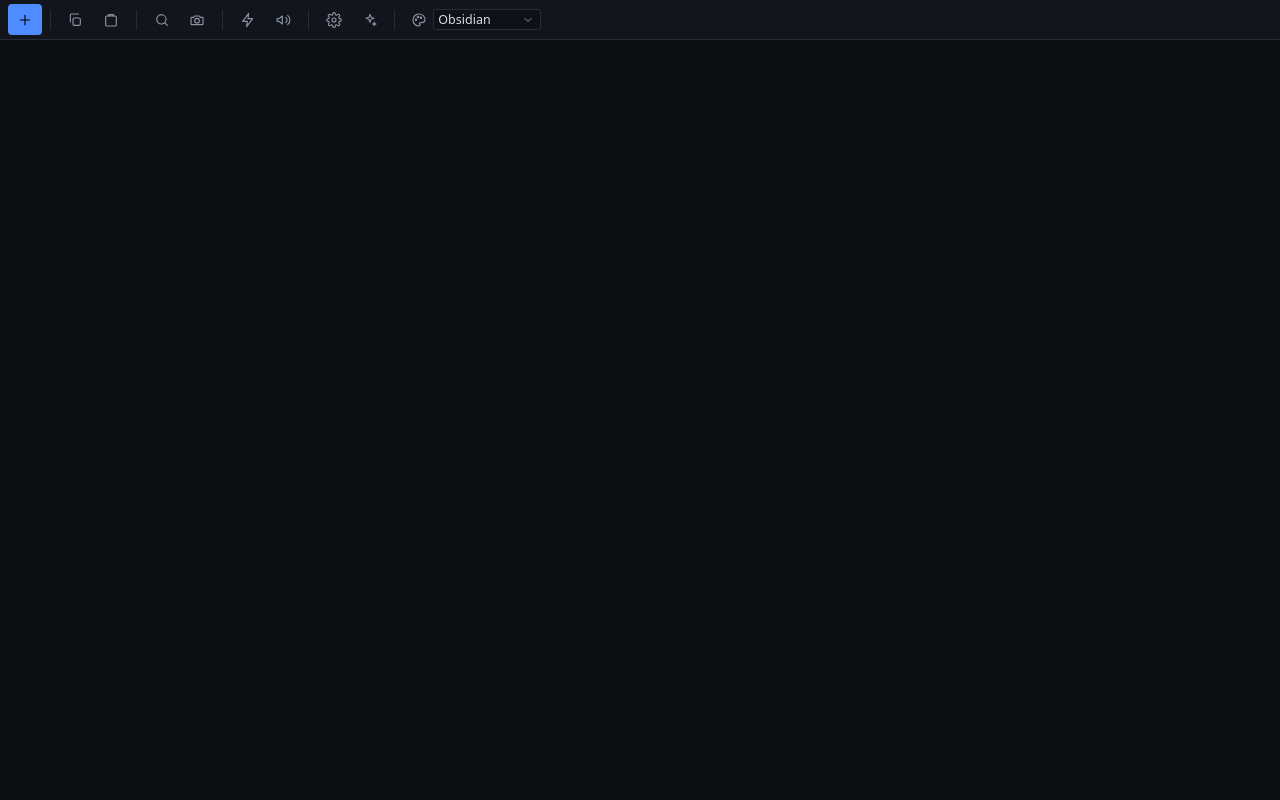
Test: 右键菜单：勾选显示哪些按钮（出口第 17 项） › 点别处关菜单
Right-click the element with test id "toolbar" at (640, 20), box x1=0 y1=0 x2=1279 y2=40
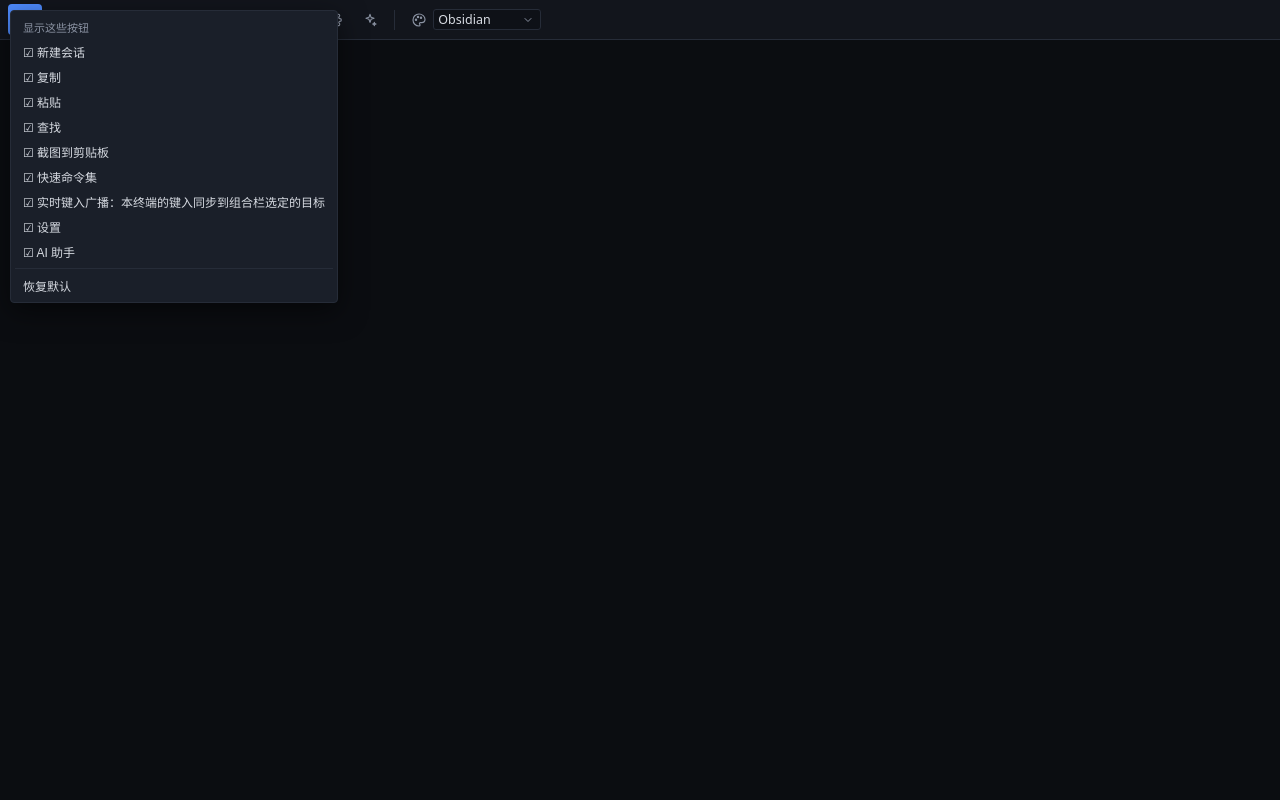
Click the element with class "tb-scrim" at (640, 400), box x1=0 y1=0 x2=1279 y2=799
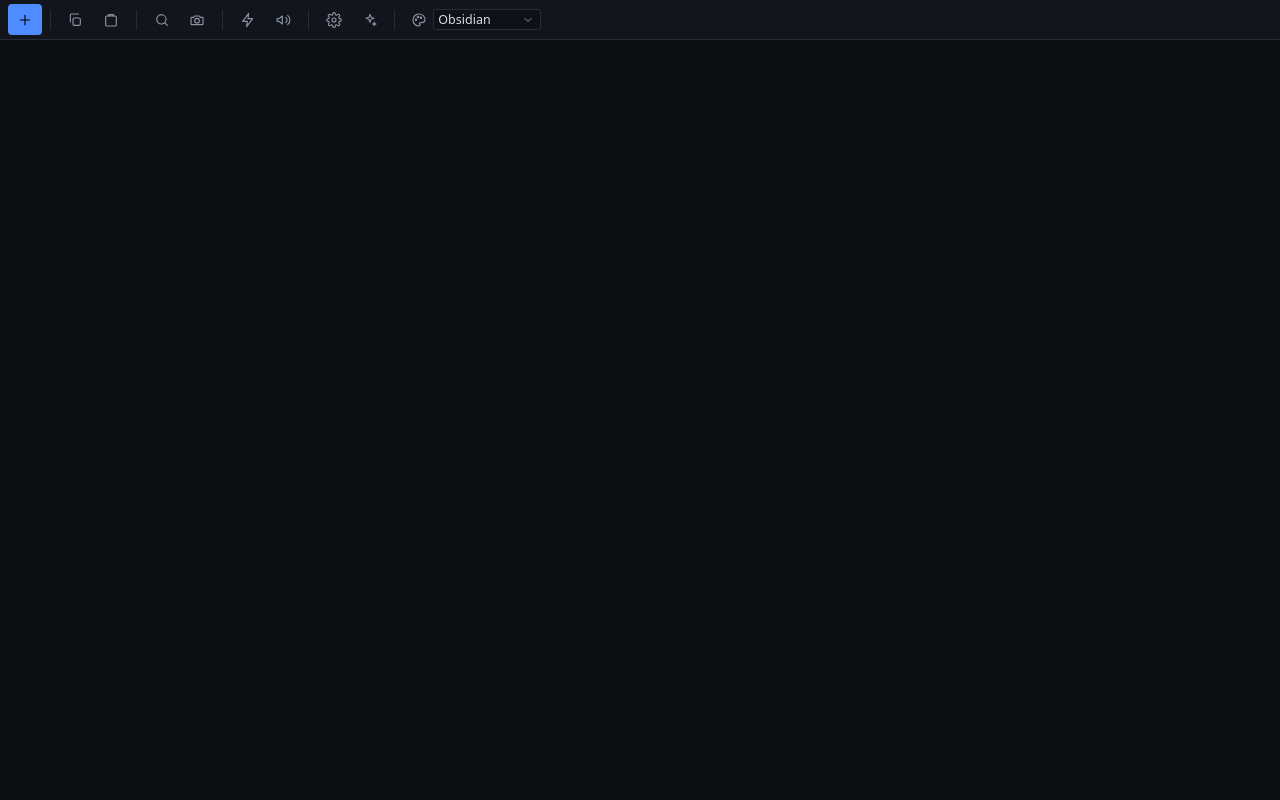
Expected: the menu with test id "toolbar-menu" is gone
